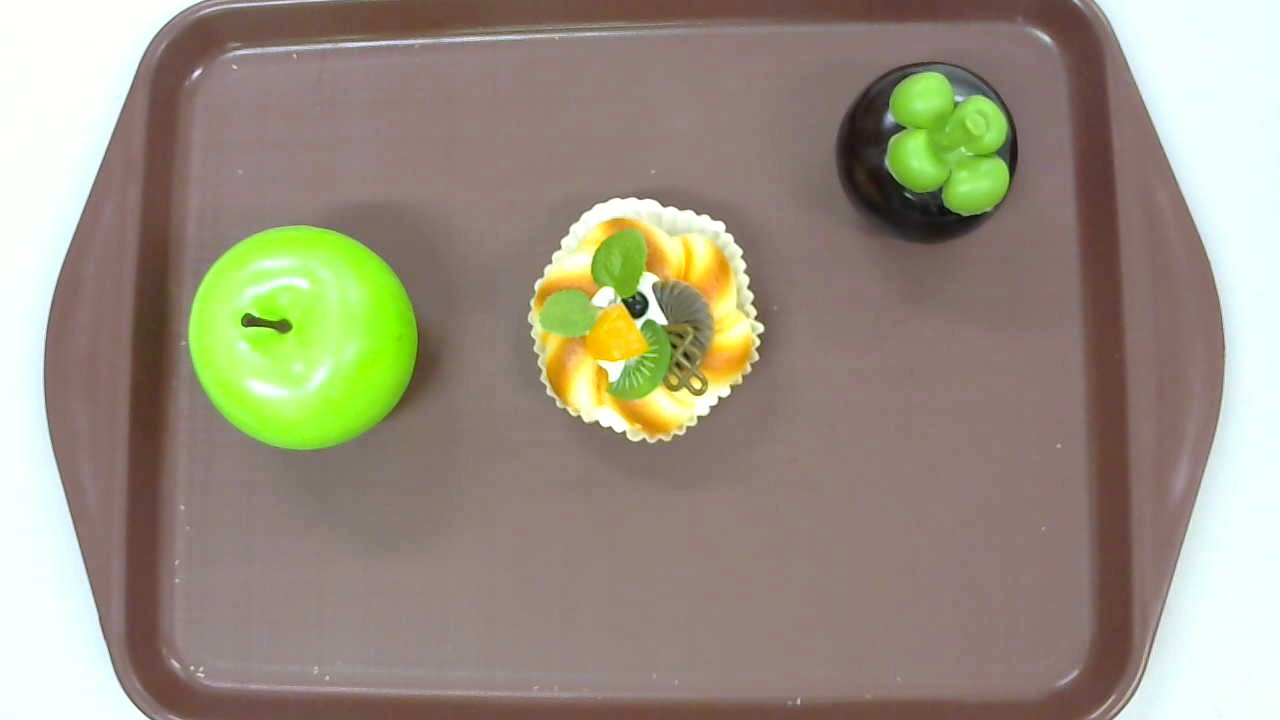fruit tart: (528, 197, 766, 445)
green apple: (187, 223, 417, 453)
mangosteen: (836, 62, 1019, 244)
